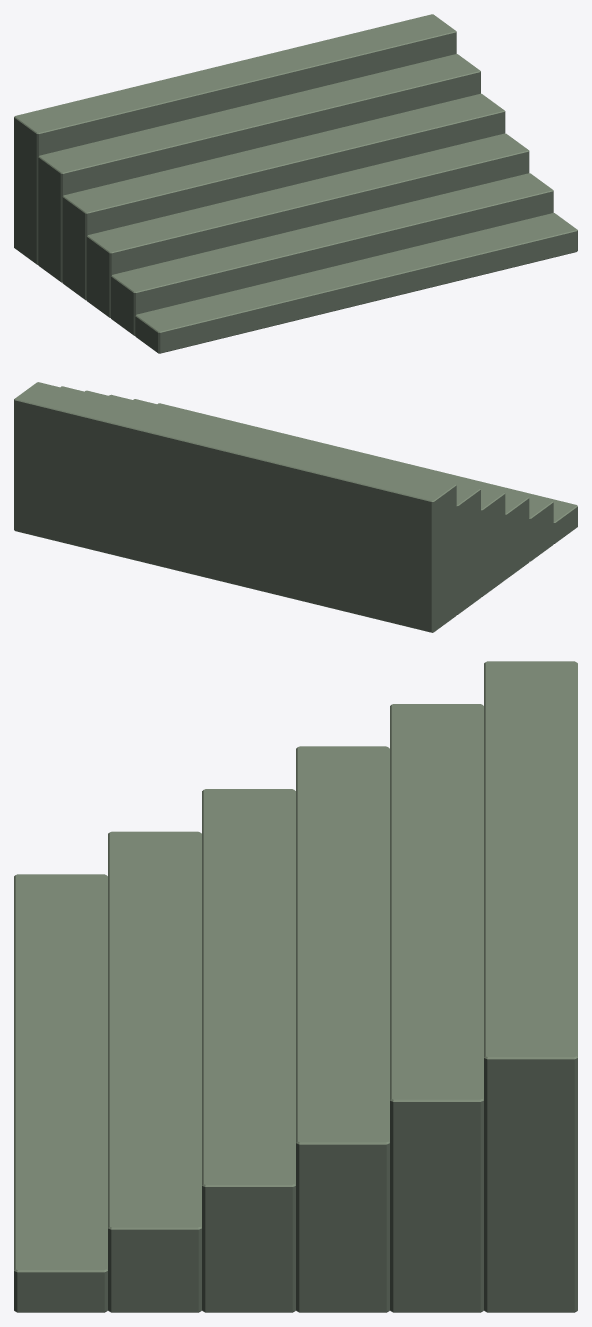
Rendered from stair-wide.glb.
3 views of the same model, one above another, from view 1: azimuth 30°, elevation 25°; view 2: azimuth 150°, elevation 25°; view 3: azimuth 270°, elevation 25° (orthographic). The views are drawn at different scales.
Visible parts, largest first — view 1: stair-wide__body; view 2: stair-wide__body; view 3: stair-wide__body.
Part boxes in pixels (x1,y1,x2,y2): stair-wide__body: (14,14,577,353); stair-wide__body: (14,382,577,632); stair-wide__body: (14,661,577,1312).
Size of the model in its own units: 4 by 1.2 by 2.4.
